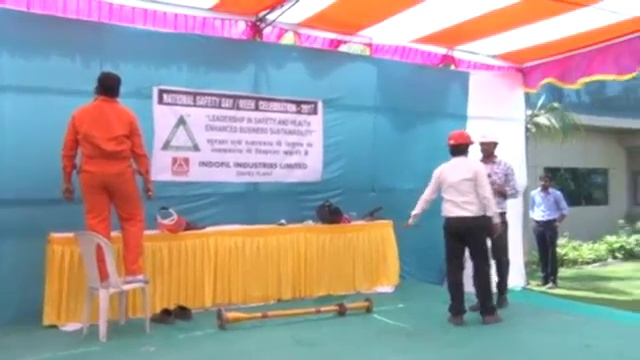helmet: (446, 127, 476, 145), (478, 130, 500, 146)
helmet_off: (94, 70, 123, 102), (537, 169, 552, 190)
helmet_on: (445, 125, 476, 160), (477, 130, 501, 166)
person: (406, 125, 503, 327), (59, 70, 152, 280), (473, 127, 518, 310), (526, 170, 569, 291)
